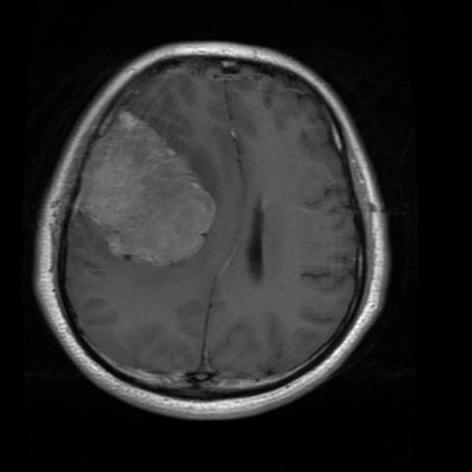Tumour-Meningioma: (56, 118, 239, 300)
